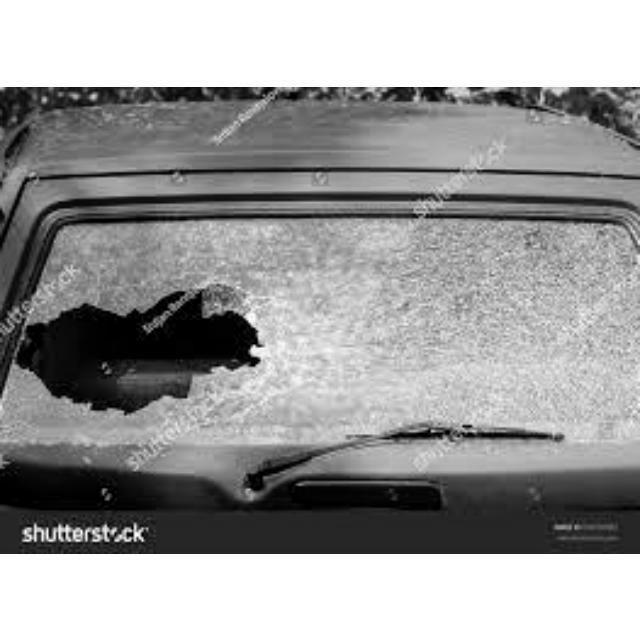Rear-windscreen-Damage: (1, 155, 638, 502)
